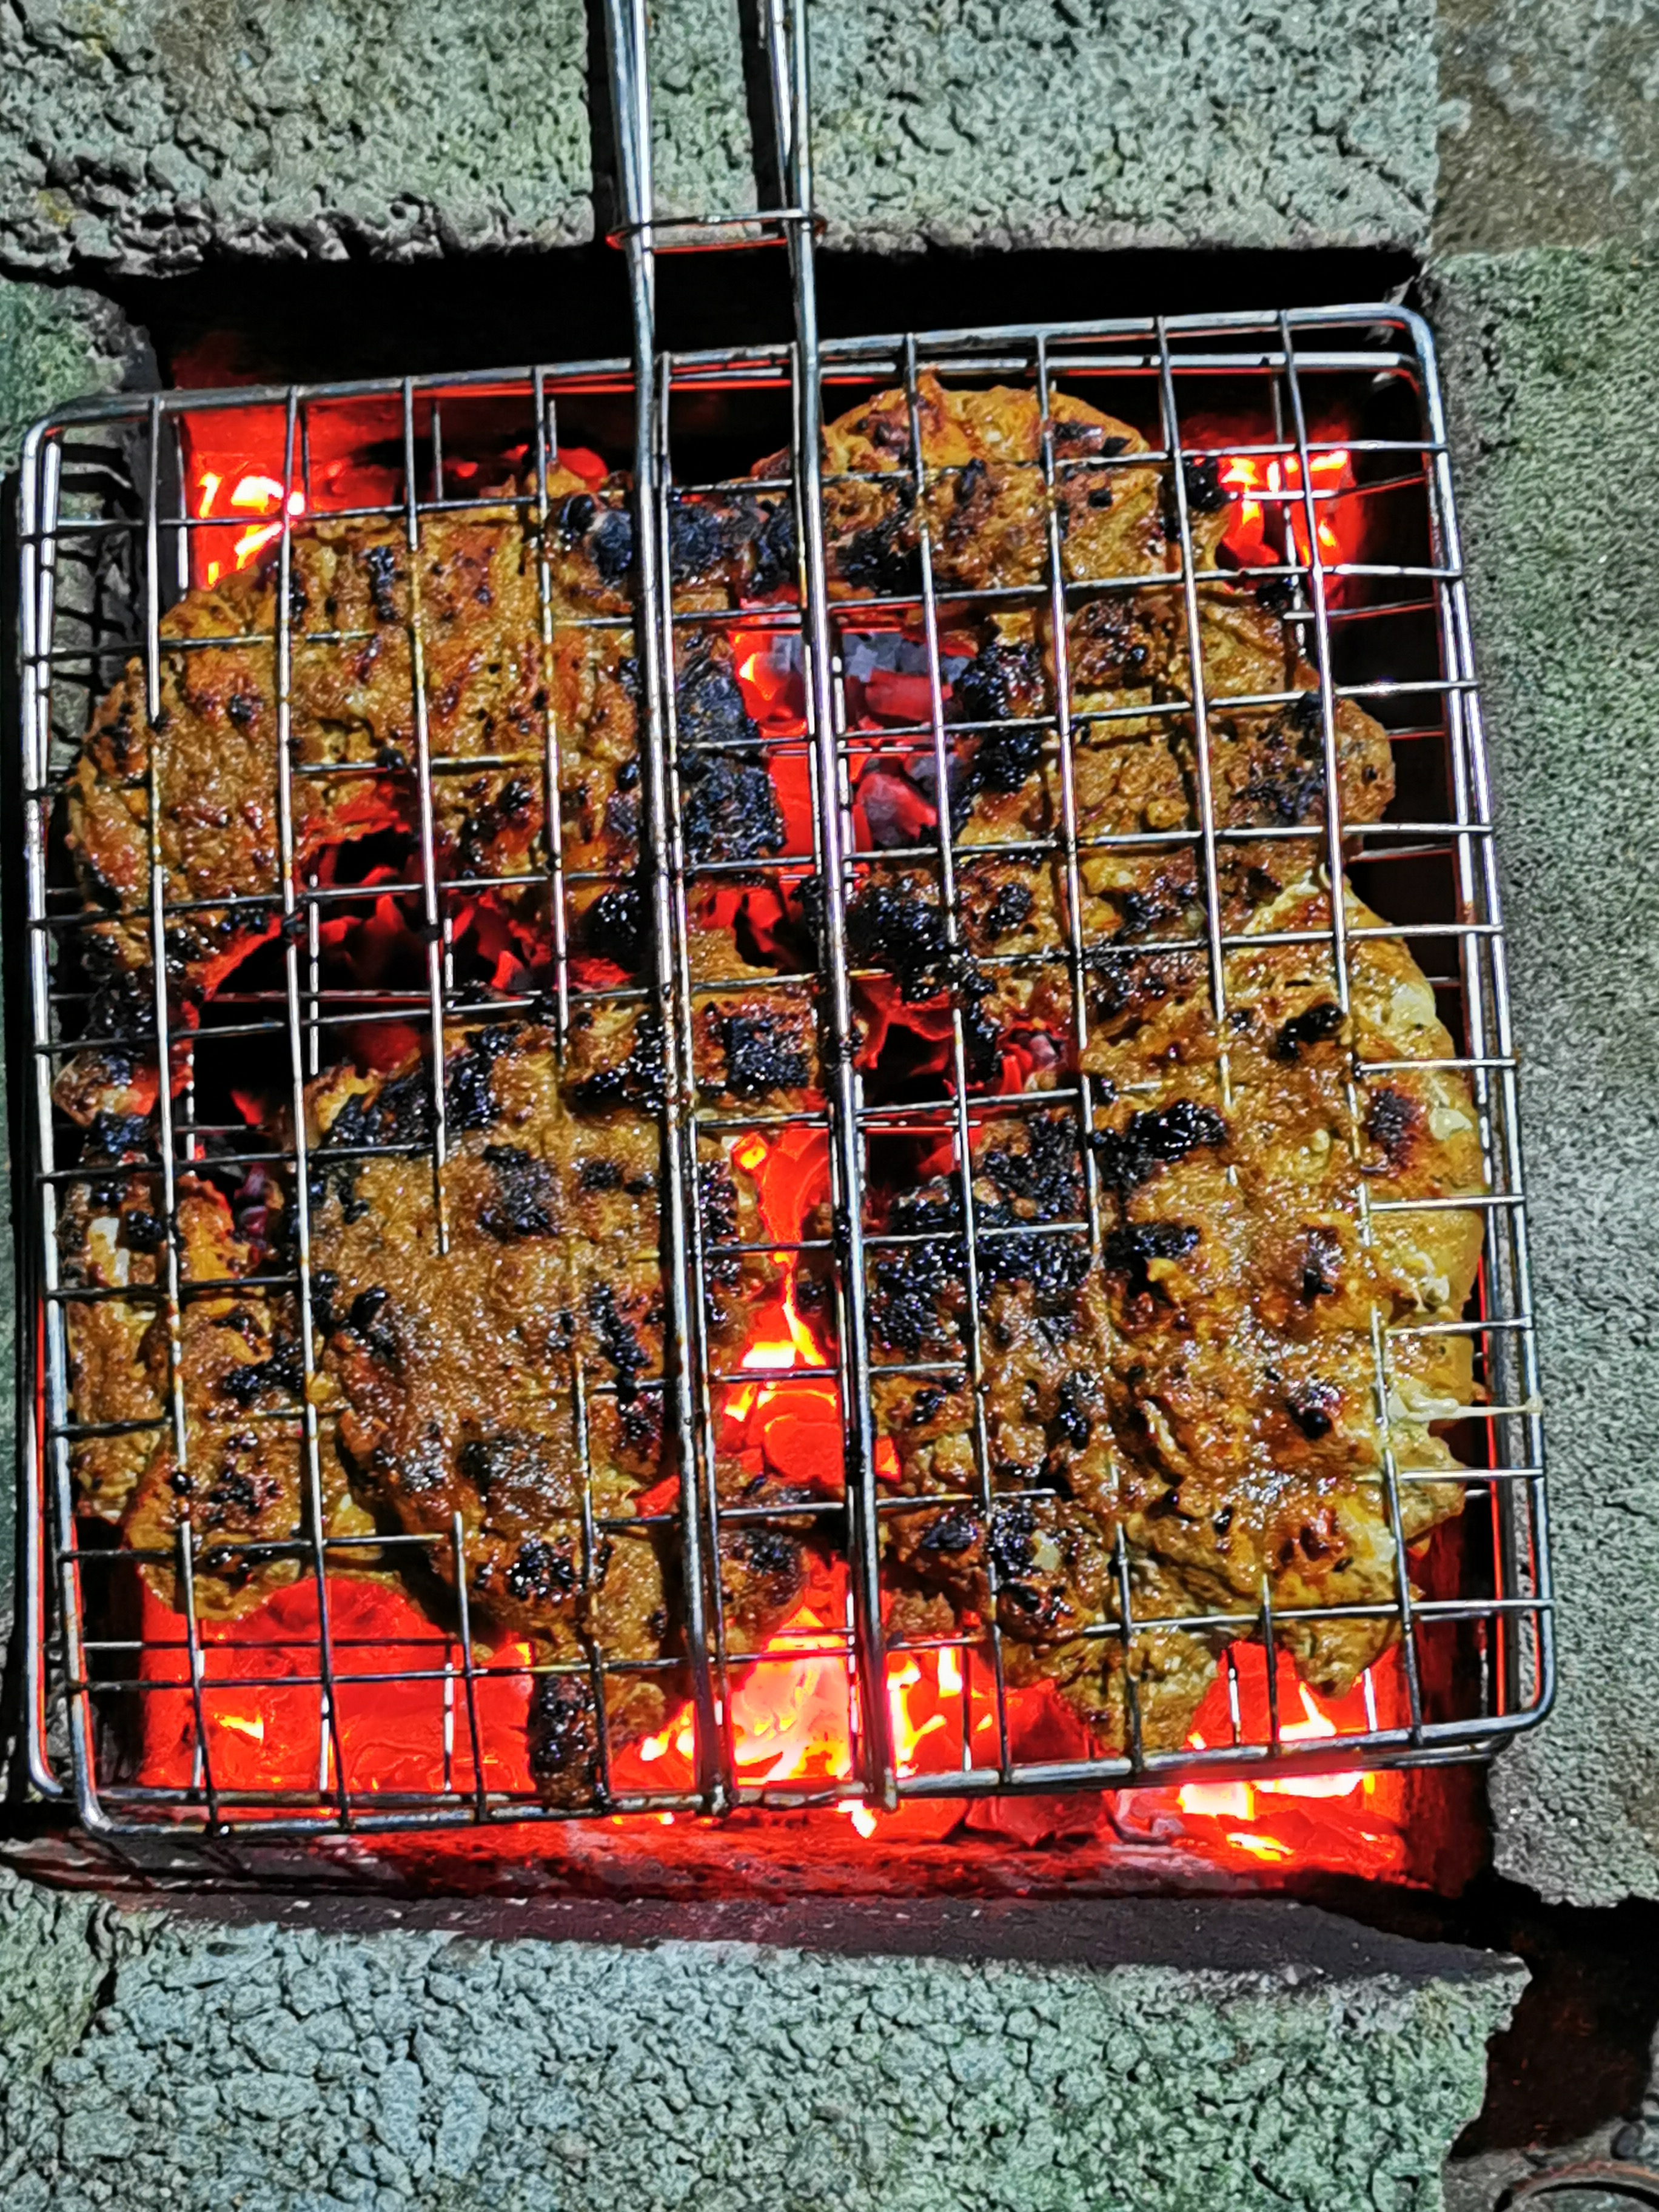food: (17, 361, 1532, 1825)
